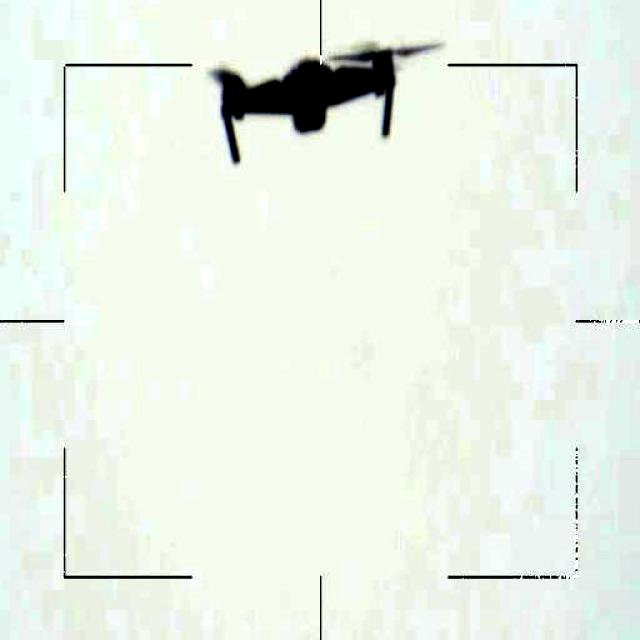bird: (200, 30, 452, 171)
